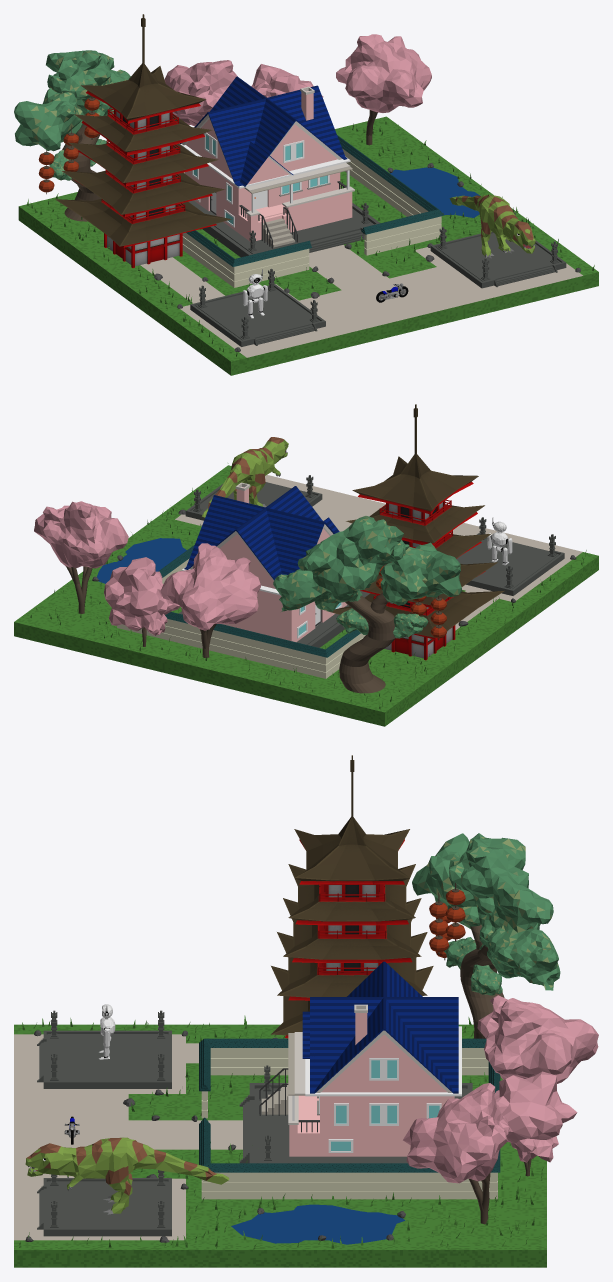
3 renders of one model, top to bottom at view 1: azimuth 30°, elevation 25°; view 2: azimuth 150°, elevation 25°; view 3: azimuth 270°, elevation 25°, orthographic. The views are drawn at different scales.
Visible parts, largest first — view 1: Cube.005, Cube.313, ANIMAL_TREX, OBJRANDOM_PLATZEEBOT; view 2: Cube.005, Cube.313, ANIMAL_TREX, OBJRANDOM_PLATZEEBOT; view 3: Cube.005, Cube.313, ANIMAL_TREX.
Boxes of the visible parts, <box> form: Cube.005: <box>14,14,598,375</box>; Cube.313: <box>179,76,354,248</box>; ANIMAL_TREX: <box>449,194,535,258</box>; OBJRANDOM_PLATZEEBOT: <box>243,269,267,318</box>; Cube.005: <box>14,404,598,726</box>; Cube.313: <box>181,482,347,642</box>; ANIMAL_TREX: <box>202,437,288,517</box>; OBJRANDOM_PLATZEEBOT: <box>487,517,512,565</box>; Cube.005: <box>14,755,598,1267</box>; Cube.313: <box>259,961,461,1156</box>; ANIMAL_TREX: <box>25,1137,229,1214</box>.
Size of the model in its own units: 4528 by 2706 by 4389.
Materials: 40 (5 with a texture image).
